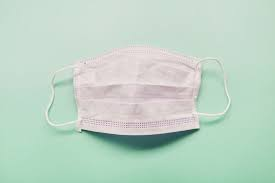flumask: (81, 53, 197, 139)
